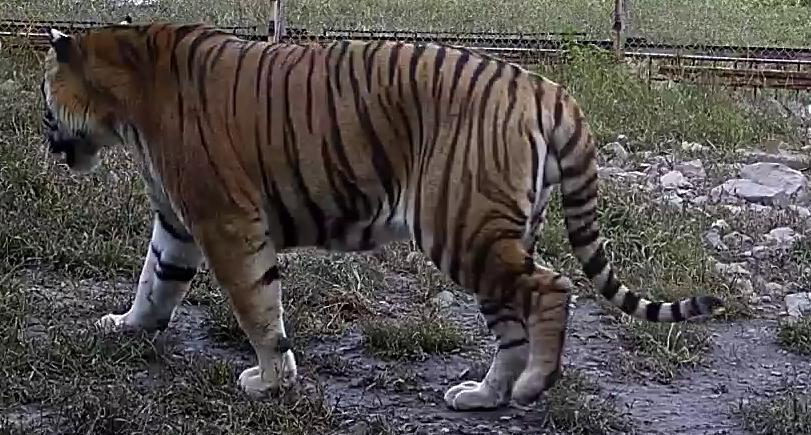tiger: (42, 23, 711, 409)
